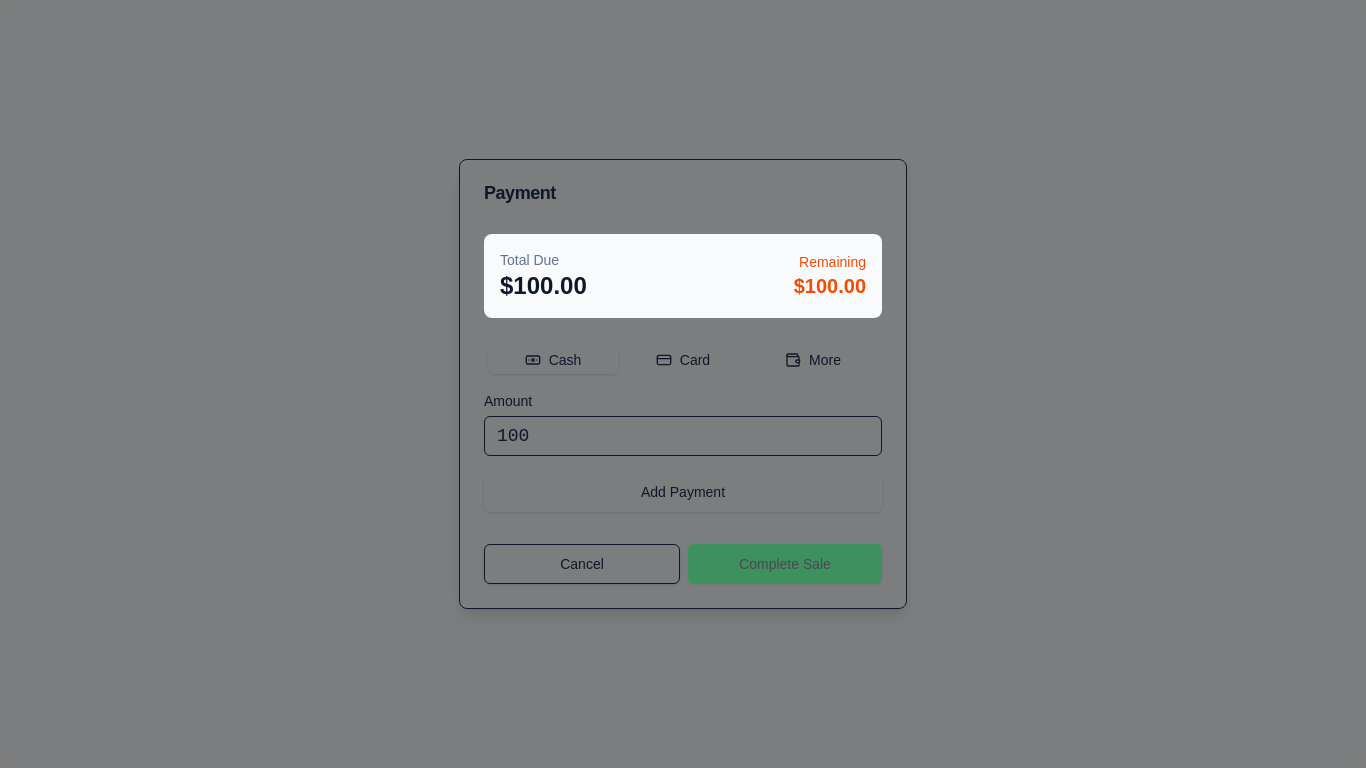
Test: PaymentModal › shows remaining amount after partial payment
Note: Change amount to 60
Replace the text in the number field with "60": (683, 436) [484,416,882,456]
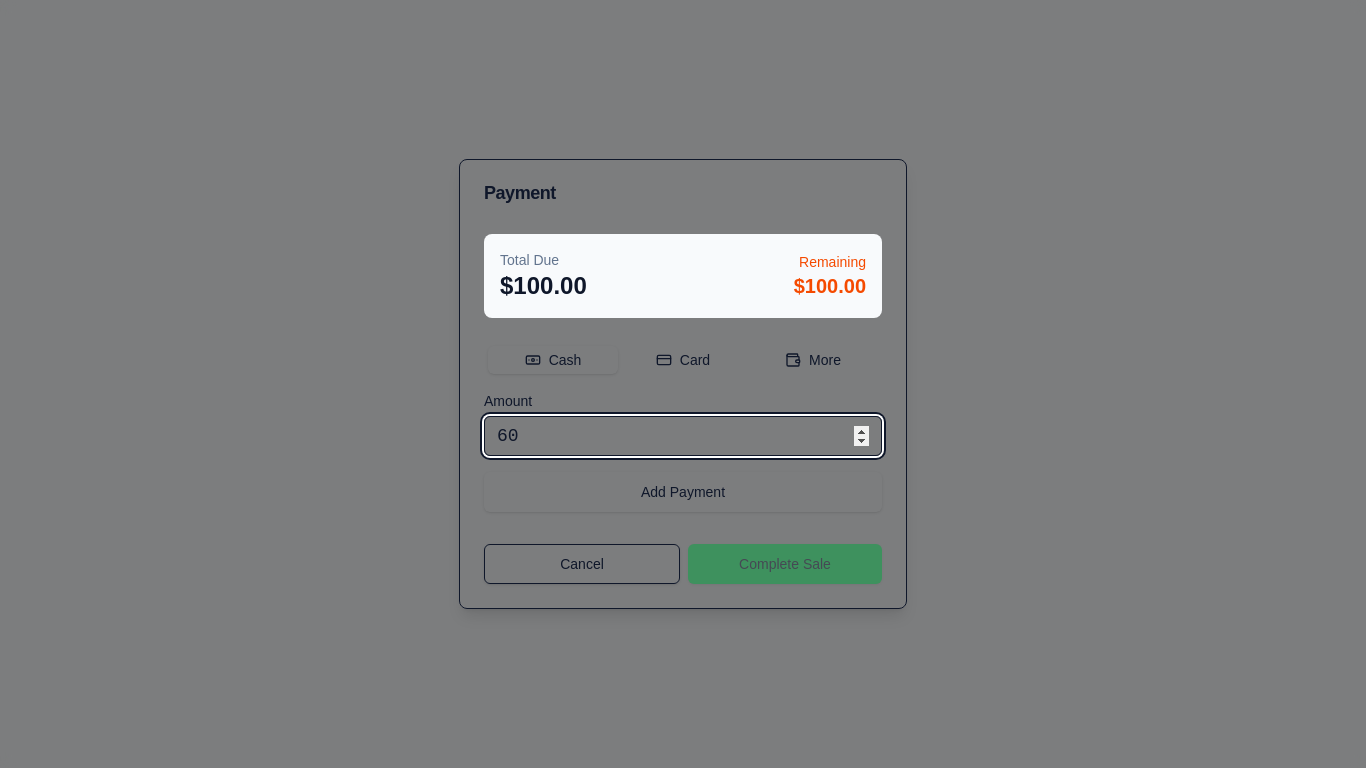
Click the button "Add Payment": (683, 492) [484,472,882,512]
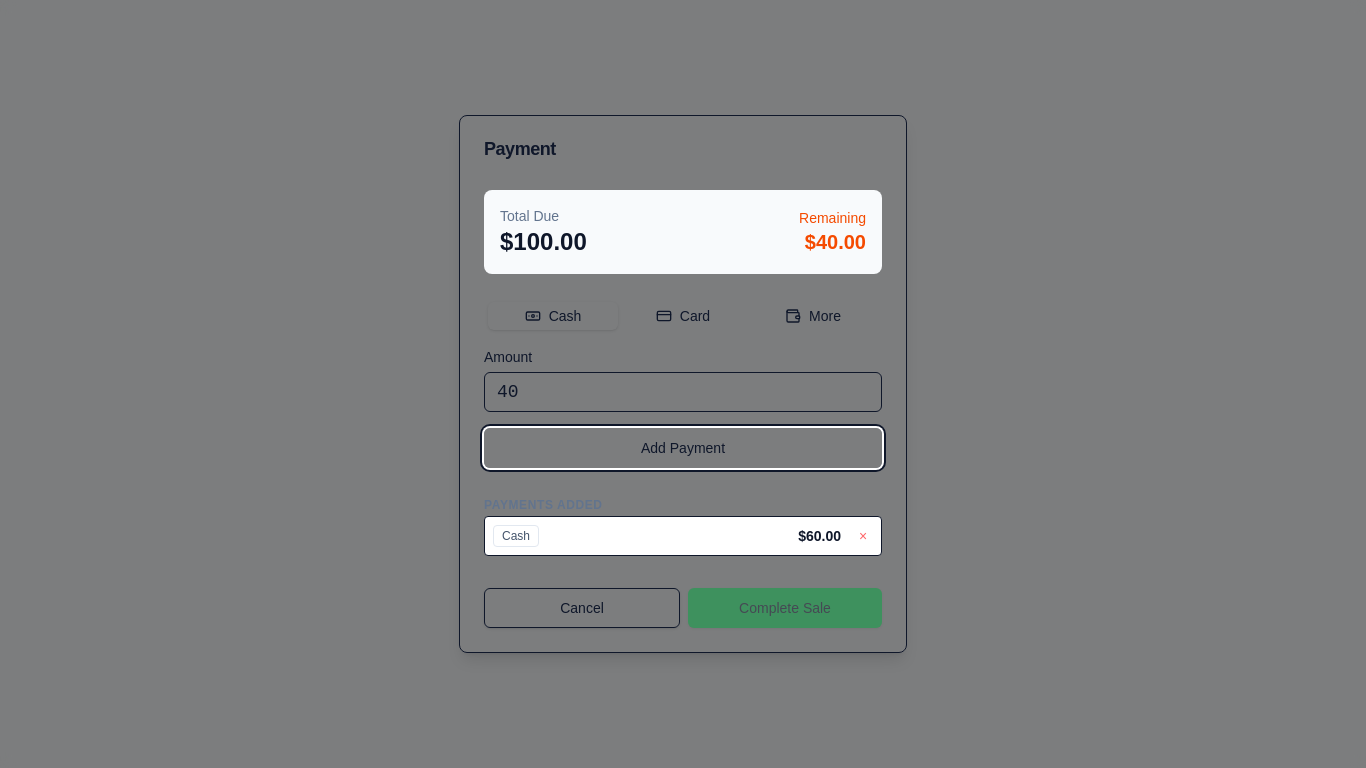
Expected: the button "Complete Sale" is disabled, [688,588,882,628]
Result: the text "$40.00" is shown at [805,228,866,256]
